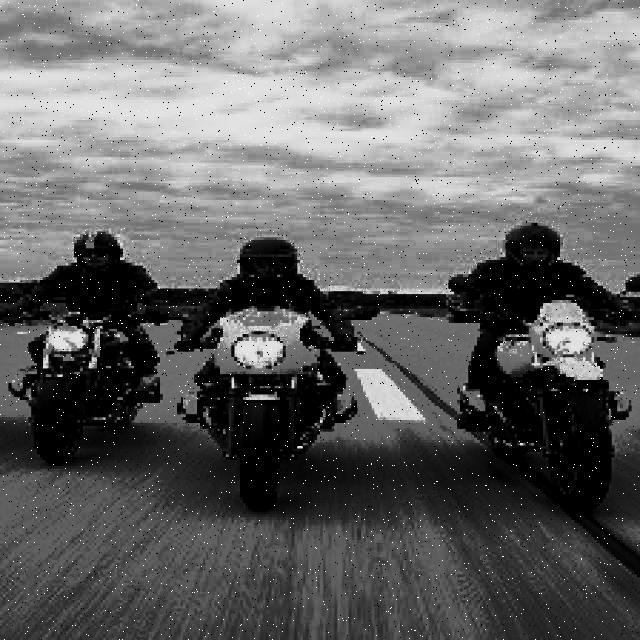Bike: (483, 303, 634, 523), (198, 316, 342, 503), (20, 313, 152, 457)
